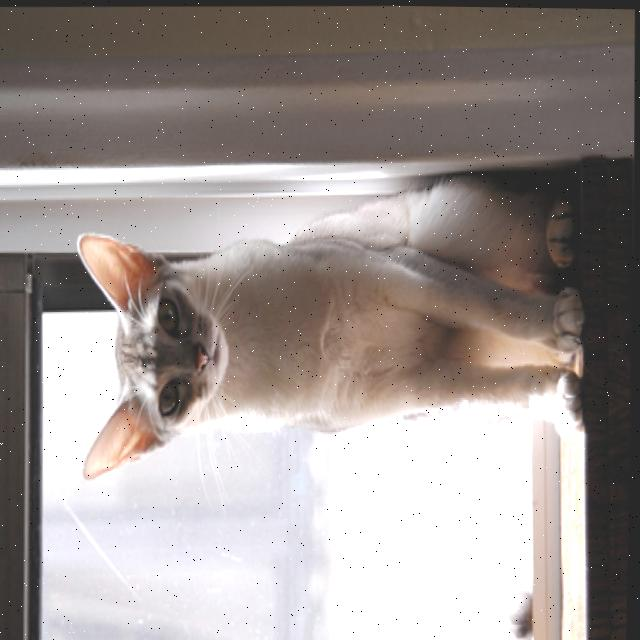Abyssinian: (70, 158, 597, 487)
